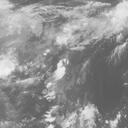cyclone: (18, 45, 73, 97)
